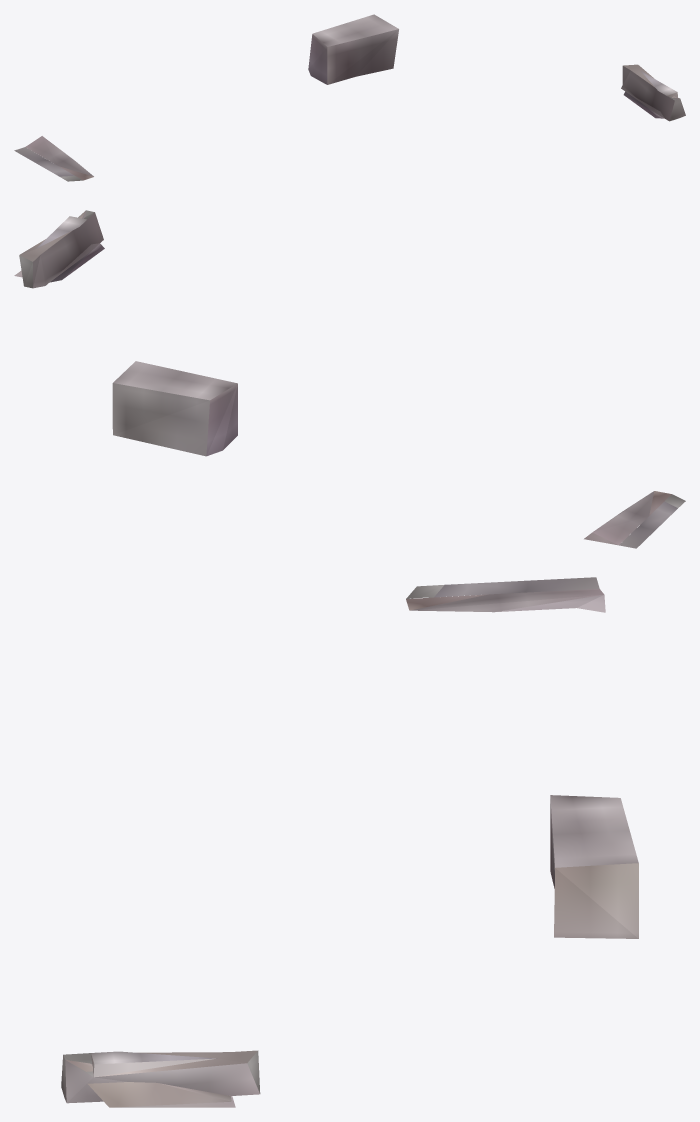
3 renders of one model, top to bottom at view 1: azimuth 30°, elevation 25°; view 2: azimuth 150°, elevation 25°; view 3: azimuth 270°, elevation 25°, orthographic. The views are drawn at different scales.
Visible parts, largest first — view 1: Mesh_0; view 2: Mesh_0; view 3: Mesh_0.
Boxes of the visible parts, x1=… form: Mesh_0: x1=14, y1=14, x2=685, y2=181; Mesh_0: x1=14, y1=210, x2=685, y2=548; Mesh_0: x1=61, y1=577, x2=638, y2=1107.
Size of the model in its own units: 444 by 30.24 by 204.
Materials: 1 (1 with a texture image).
